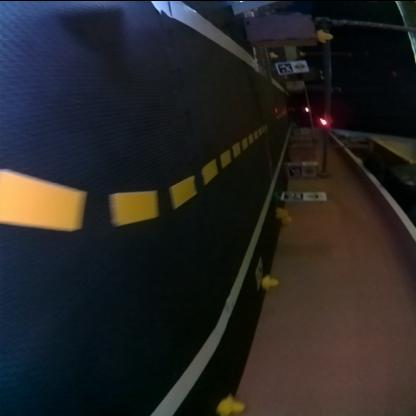Duckie: (218, 393, 246, 412), (263, 274, 279, 288), (317, 28, 332, 40), (282, 214, 294, 222), (278, 206, 289, 214), (271, 51, 278, 56)
Intersection sign: (307, 191, 327, 198)
QR code: (256, 256, 263, 285), (279, 60, 293, 73), (290, 164, 302, 174), (284, 192, 302, 198)
Traffic light: (320, 117, 327, 123), (304, 106, 310, 112)
